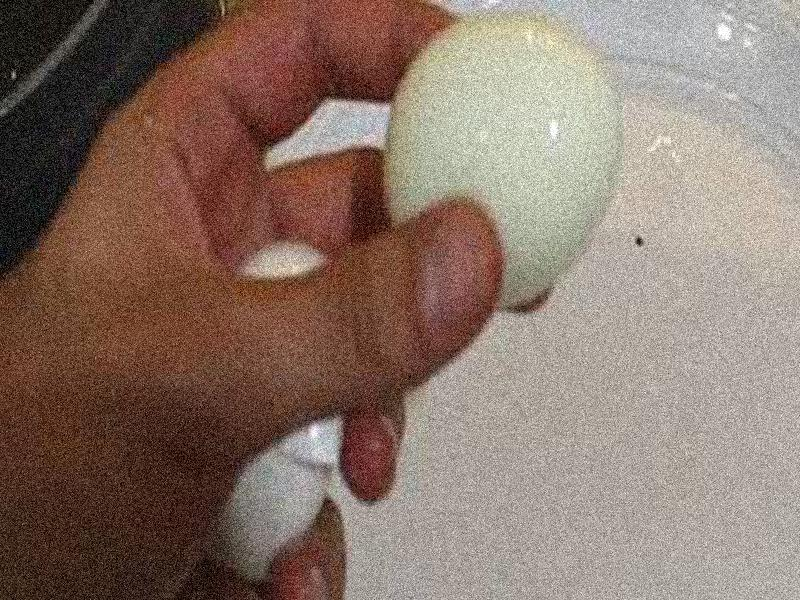Eggs: (383, 4, 615, 312)
